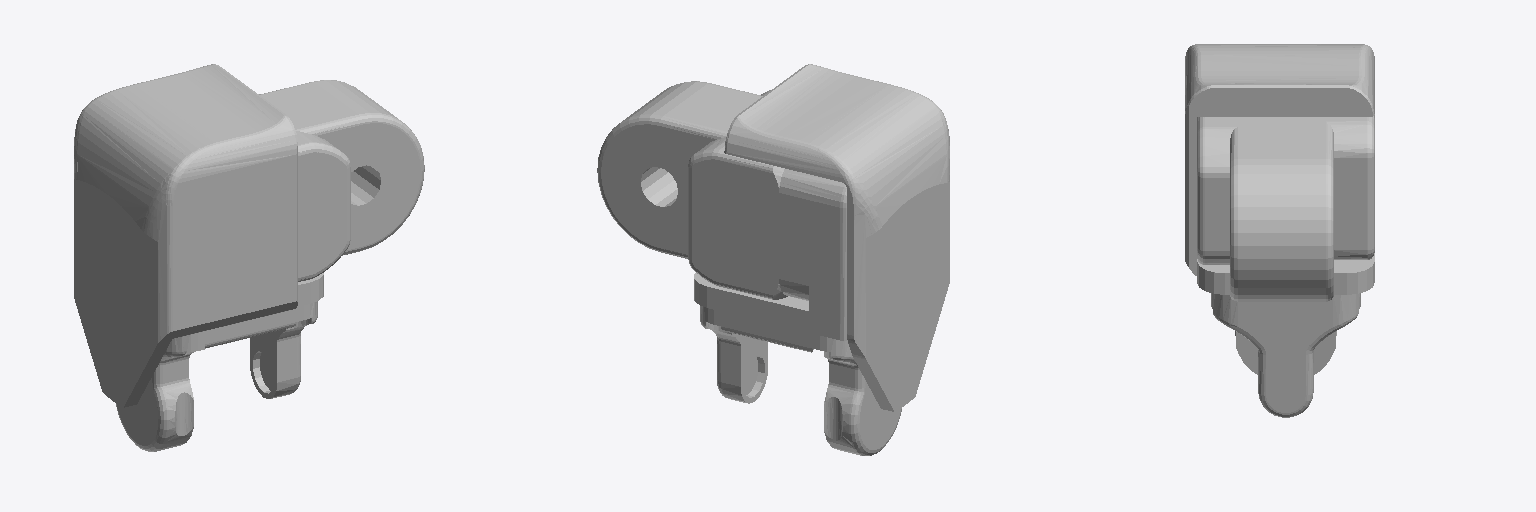
Rendered from tesollo_left_ll_dg_2_1_visuals_ll_dg_2_1_mesh.obj.
The picture shows the model from 3 angles: view 1: azimuth 30°, elevation 25°; view 2: azimuth 150°, elevation 25°; view 3: azimuth 270°, elevation 25°; orthographic projection.
Size of the model in its own units: 0.0428 by 0.0467 by 0.0239.